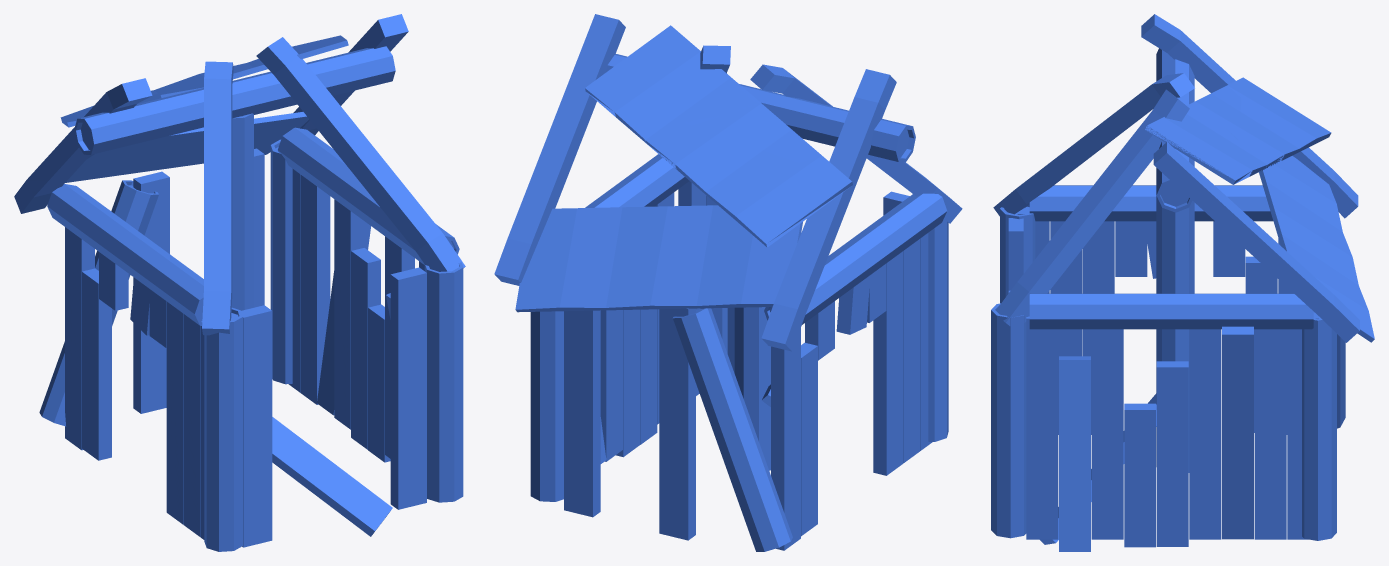
Rendered from Barn_Variant2.fbx.
3 views of the same model, side by side, from view 1: azimuth 30°, elevation 25°; view 2: azimuth 150°, elevation 25°; view 3: azimuth 270°, elevation 25° (orthographic). The views are drawn at different scales.
Parts seen in each view (by area): view 1: Barn_Variant2; view 2: Barn_Variant2; view 3: Barn_Variant2.
Boxes of the visible parts, <box> form: Barn_Variant2: <box>14,14,465,551</box>; Barn_Variant2: <box>494,14,962,551</box>; Barn_Variant2: <box>991,14,1374,551</box>.
Size of the model in its own units: 289 by 399 by 315.
